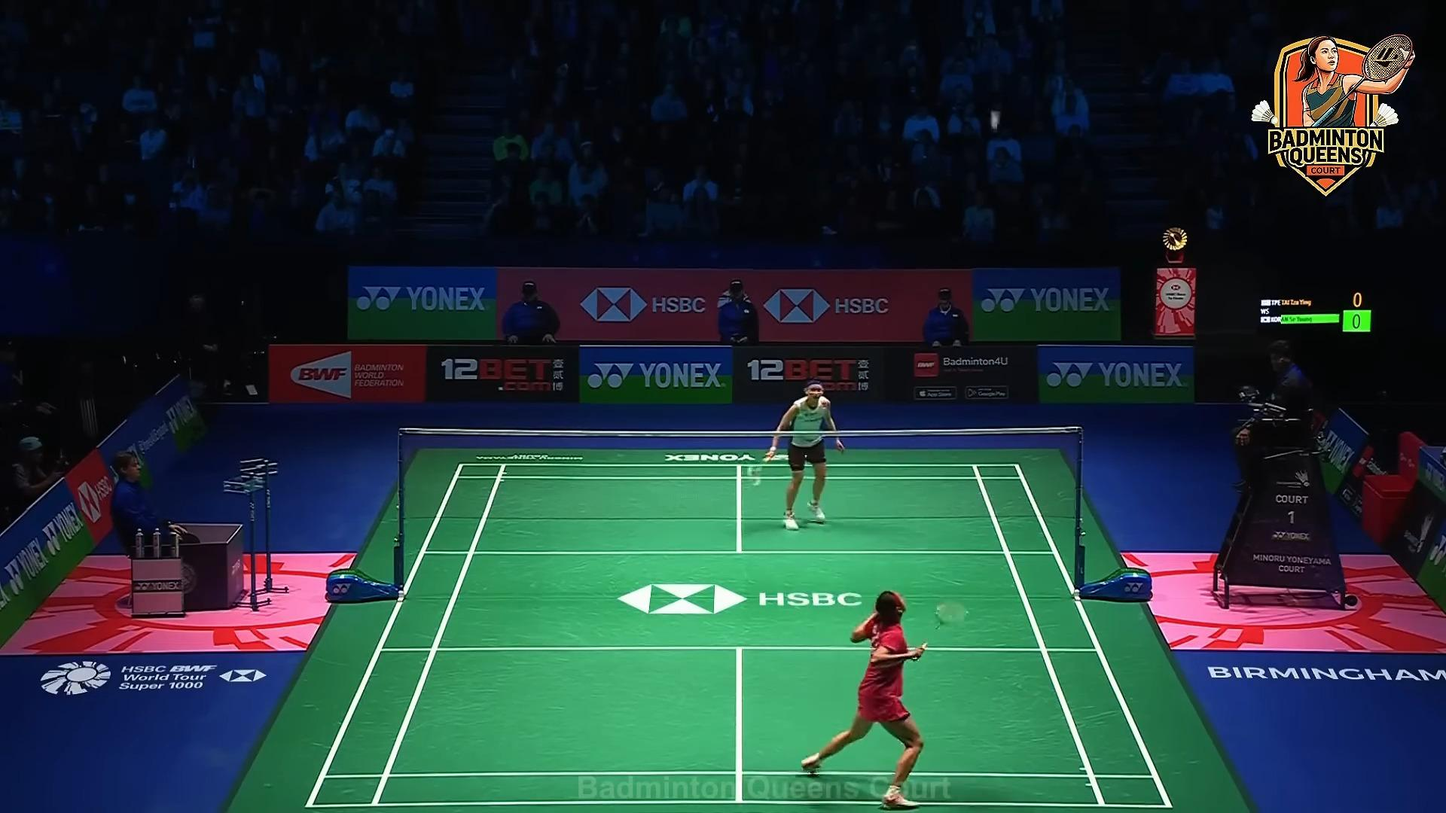shuttlecock: (990, 110, 1000, 130)
